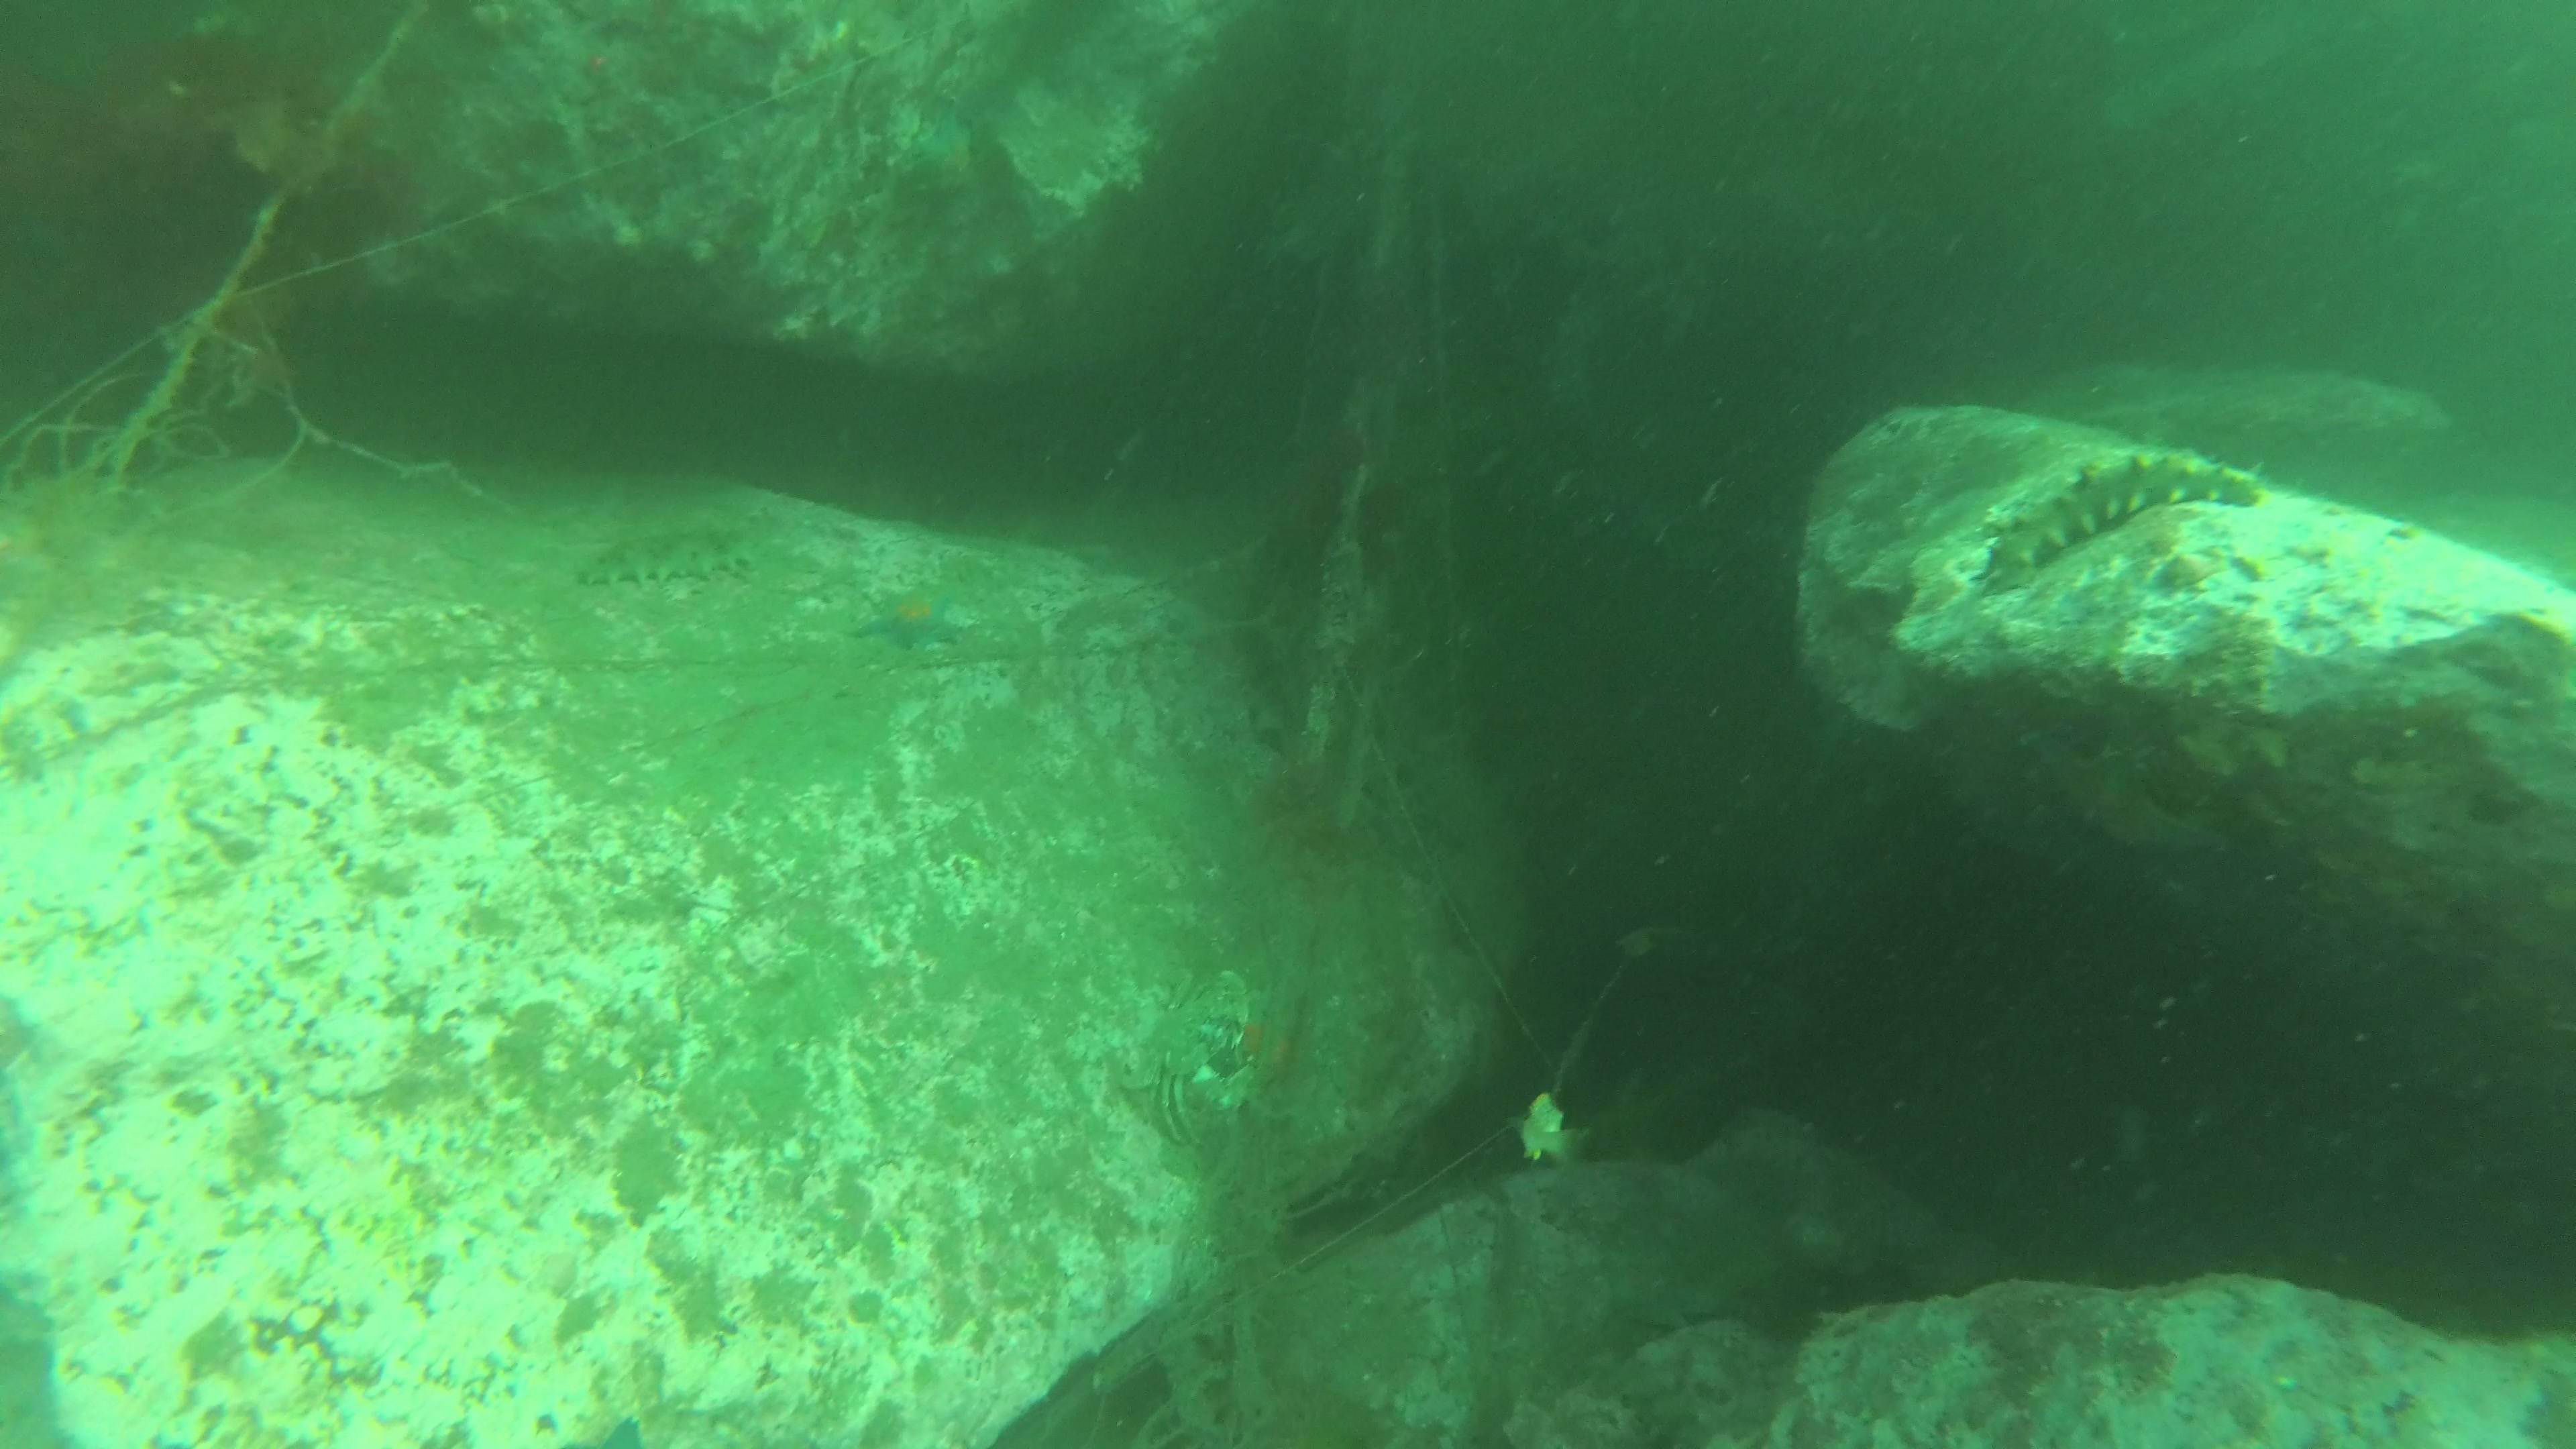holothurian: (1982, 444, 2263, 596), (570, 522, 771, 593)
starfish: (856, 582, 962, 655)
